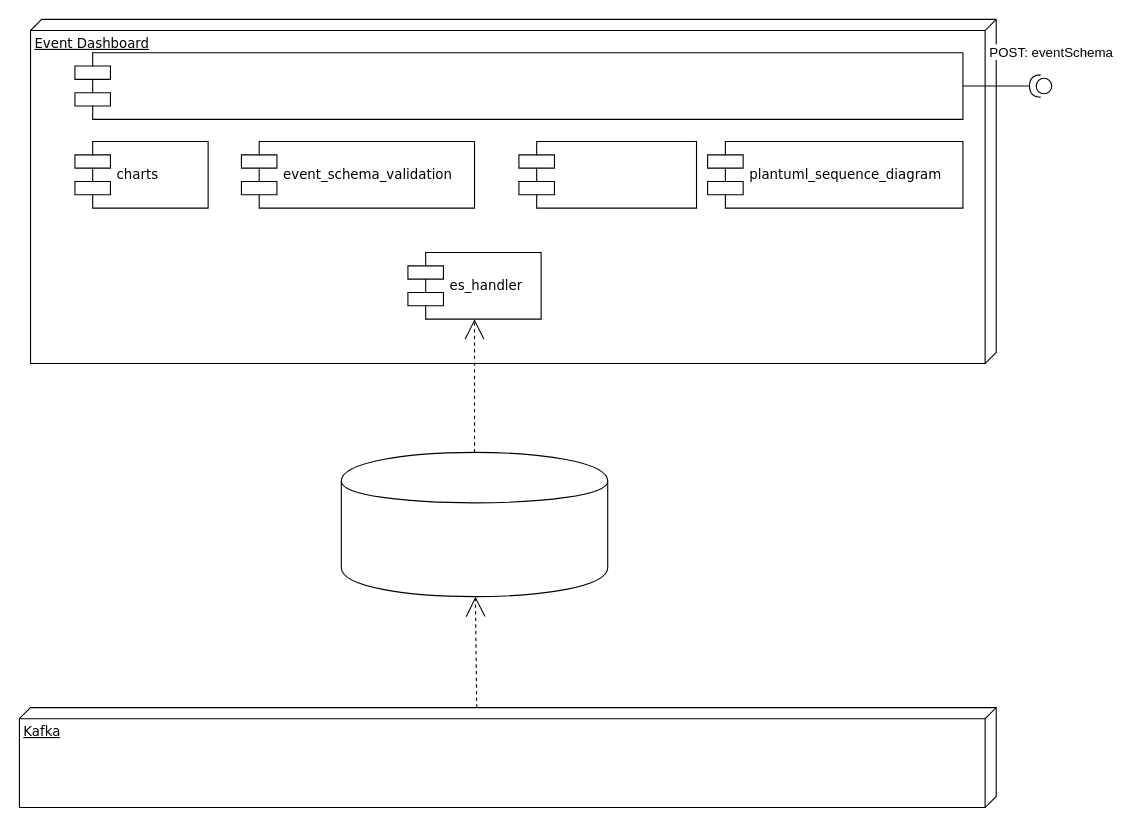
This 1132x827 diagram has some shape labels left out. Here are the shapes that lost their labels. From the top down, the centre of each, then its label:
At (x=518, y=85): "app".
At (x=607, y=174): "seqeunce_diagram".
At (x=474, y=524): "Elasticsearch".
